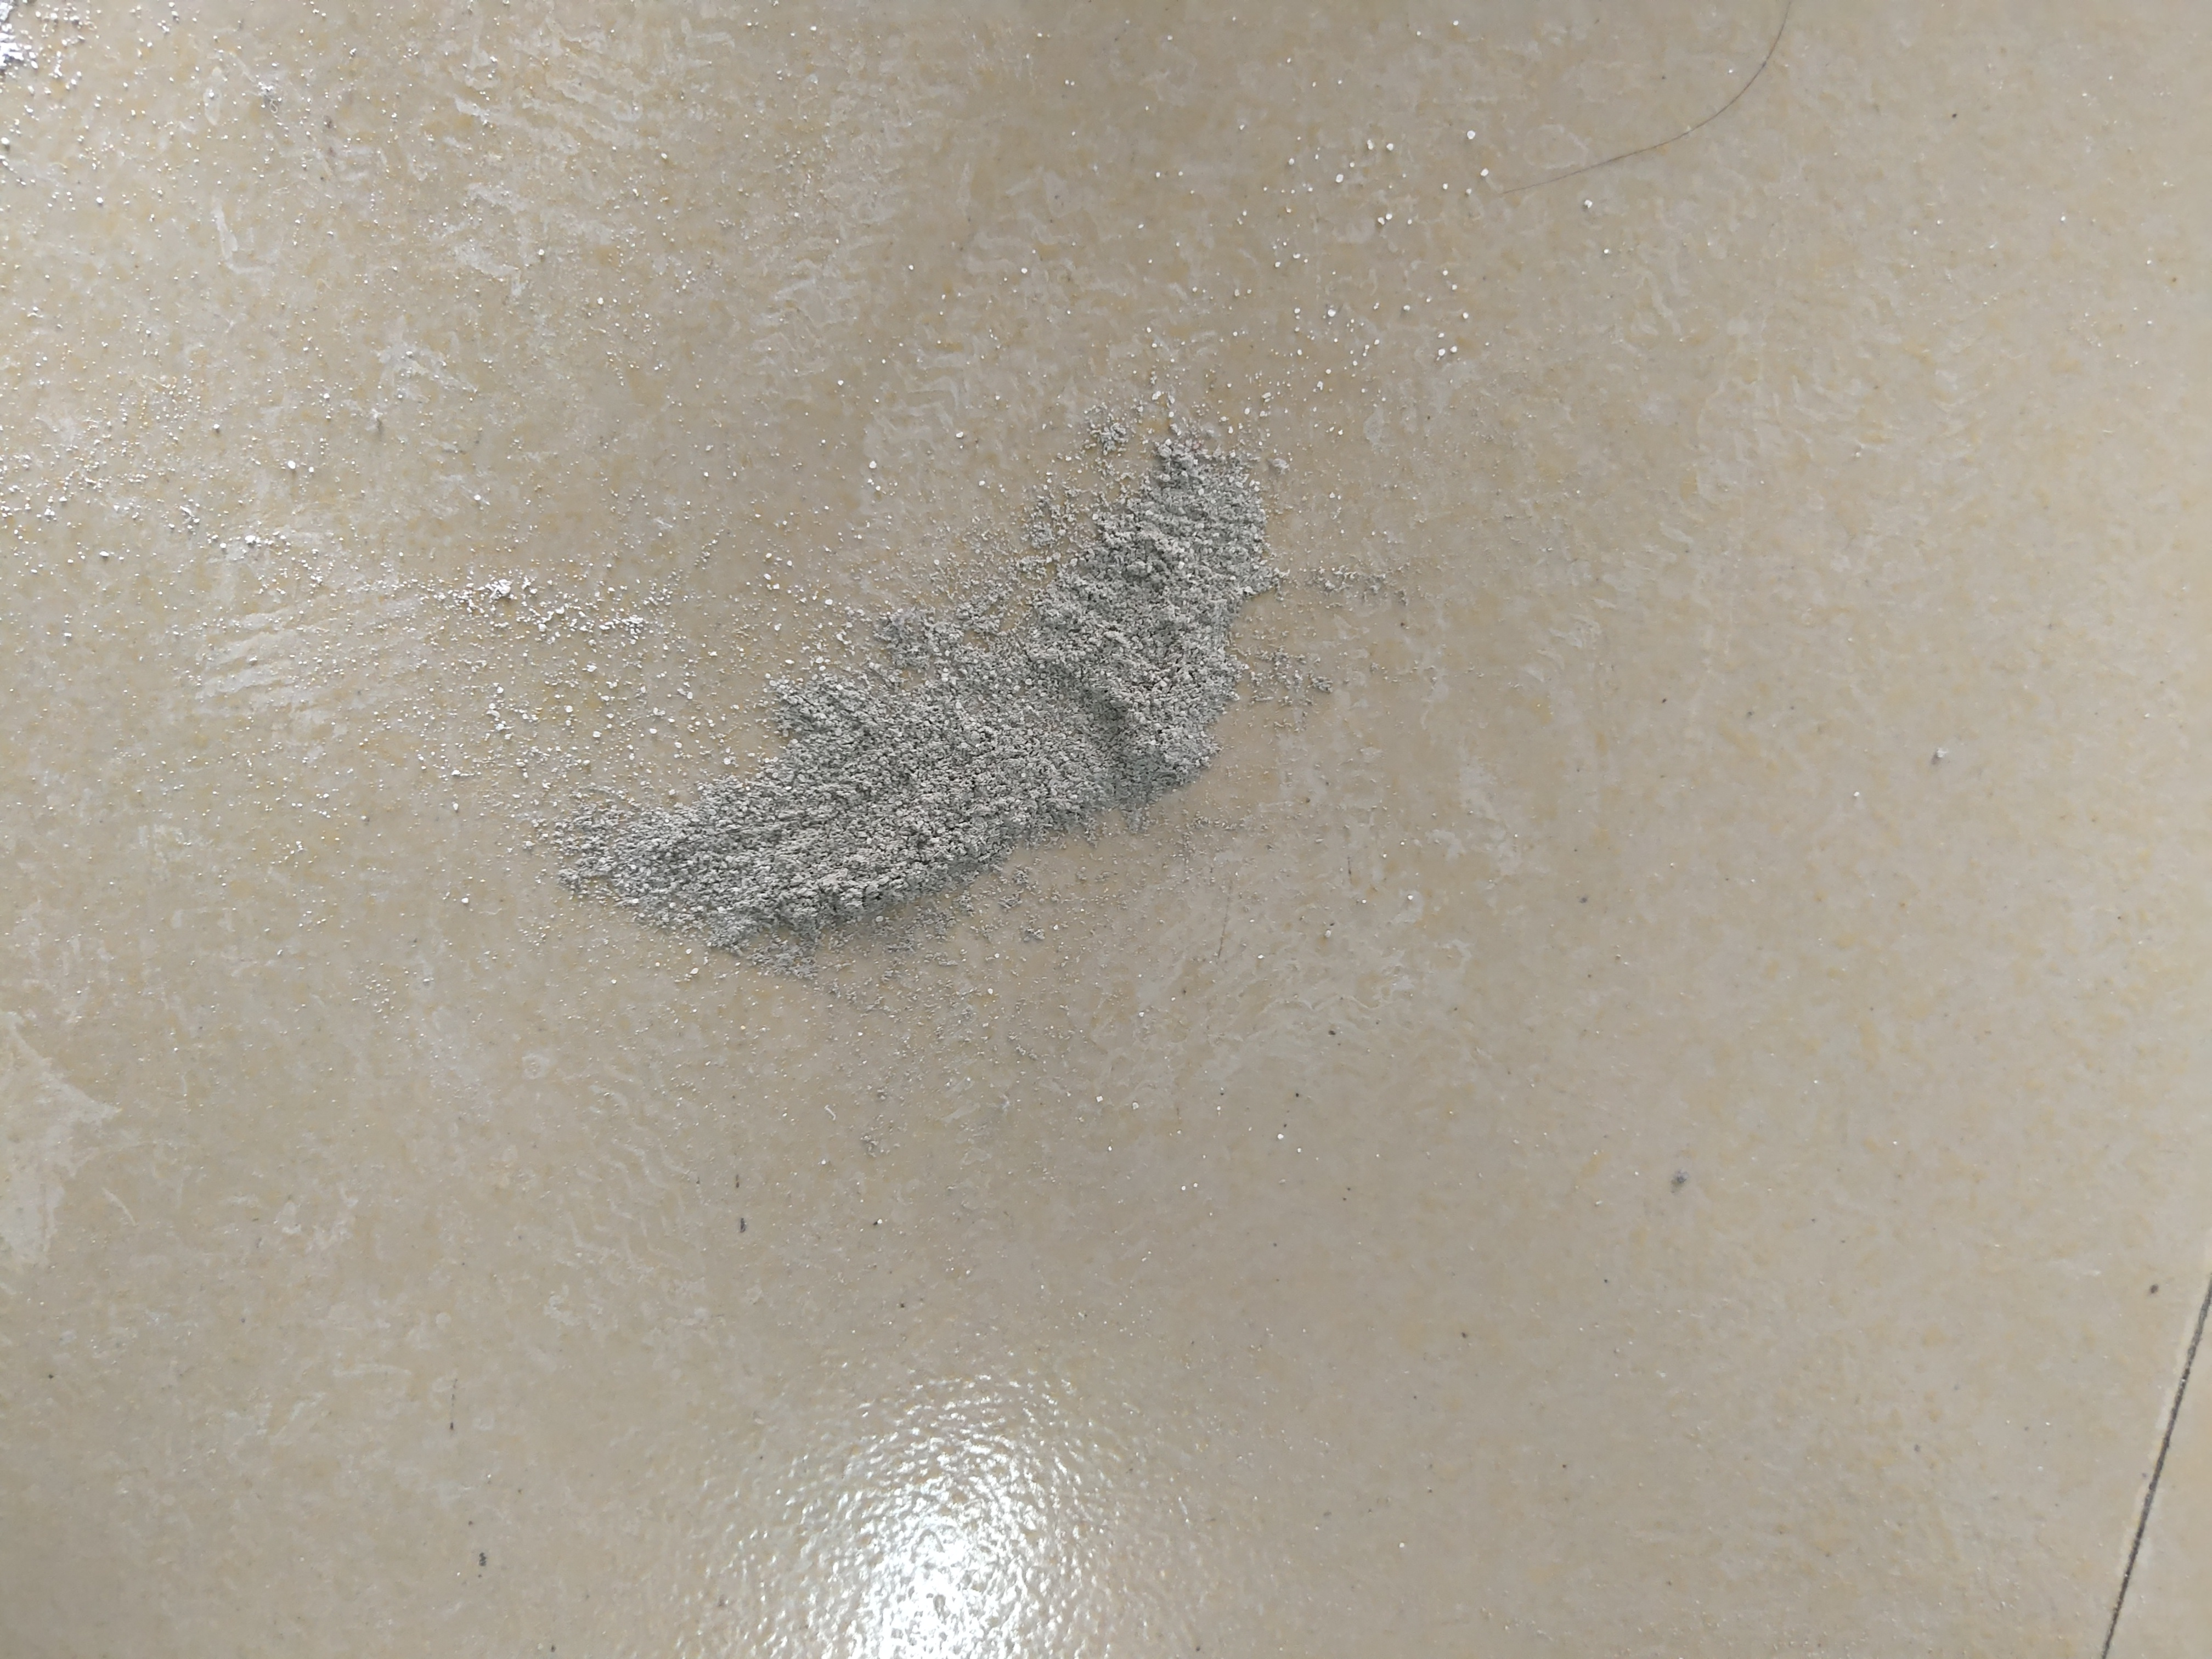ash pile: (563, 418, 1393, 988)
reflection: (763, 1356, 1139, 1659)
